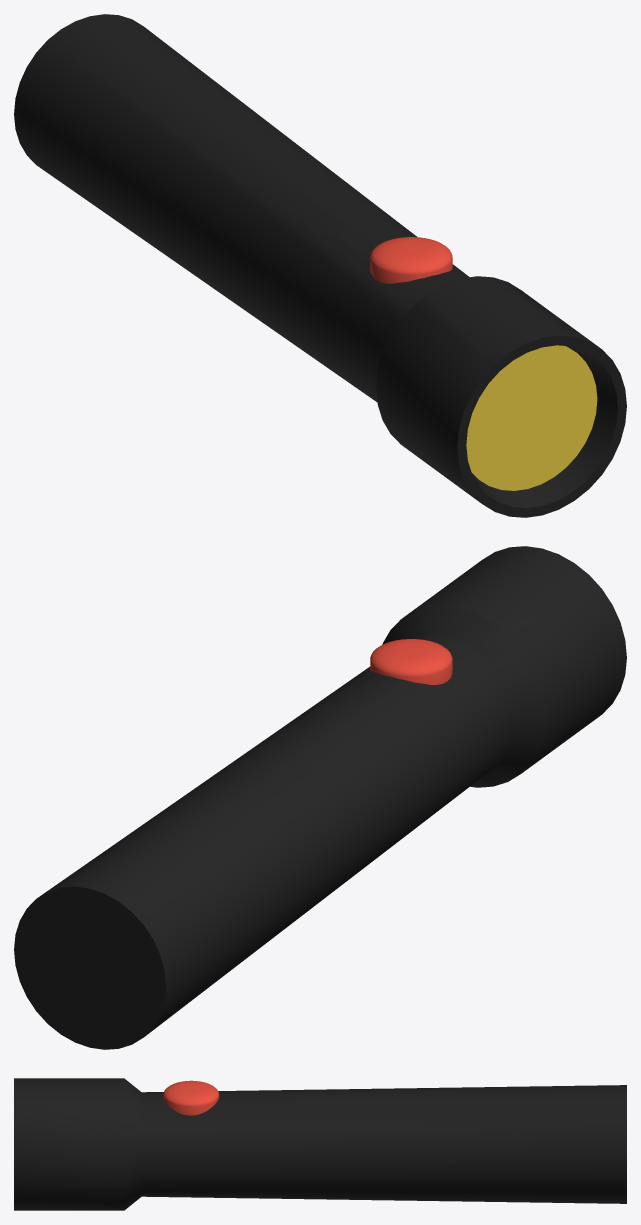
File: flashlight.fbx
3 renders of one model, top to bottom at view 1: azimuth 30°, elevation 25°; view 2: azimuth 150°, elevation 25°; view 3: azimuth 270°, elevation 25°, orthographic. The views are drawn at different scales.
Visible parts, largest first — view 1: Button.001; view 2: Button.001; view 3: Button.001.
Part boxes in pixels (box(x1,y1,x2,y2)): Button.001: box(14, 14, 626, 517); Button.001: box(14, 546, 626, 1049); Button.001: box(14, 1078, 626, 1210).
Bounding box in the file's own units: 245 × 245 × 1130.
